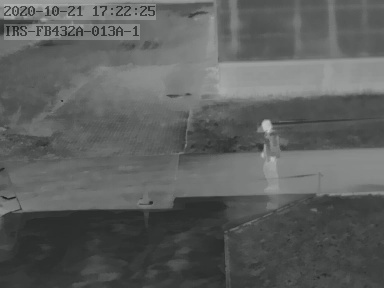person: (258, 116, 281, 190)
